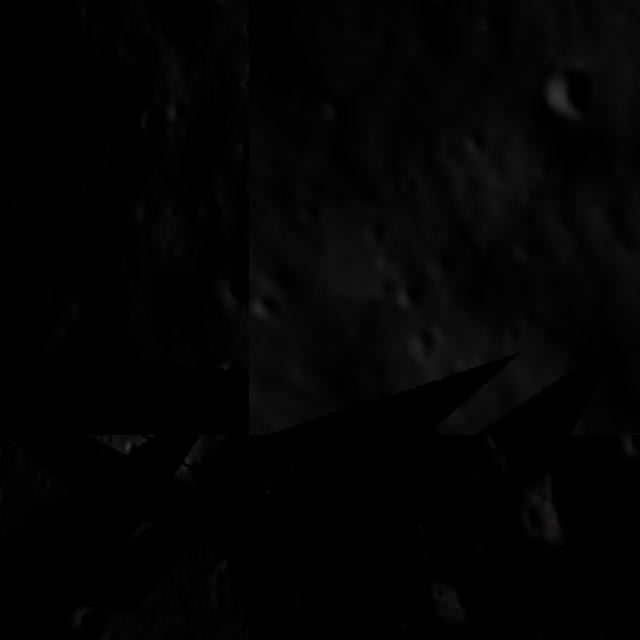crater: (518, 457, 622, 549), (531, 48, 600, 122), (428, 558, 508, 620), (130, 90, 190, 148), (203, 250, 249, 321), (205, 345, 249, 398), (311, 81, 360, 123), (457, 124, 500, 168), (269, 250, 308, 293), (392, 272, 431, 315), (406, 322, 443, 362), (72, 601, 108, 640), (249, 279, 278, 326), (291, 584, 327, 617), (0, 566, 21, 617), (407, 512, 441, 542), (88, 511, 120, 542), (609, 435, 640, 465), (95, 440, 118, 478), (249, 35, 275, 66), (416, 0, 478, 11), (233, 217, 249, 257), (399, 606, 419, 634), (545, 629, 577, 640)
